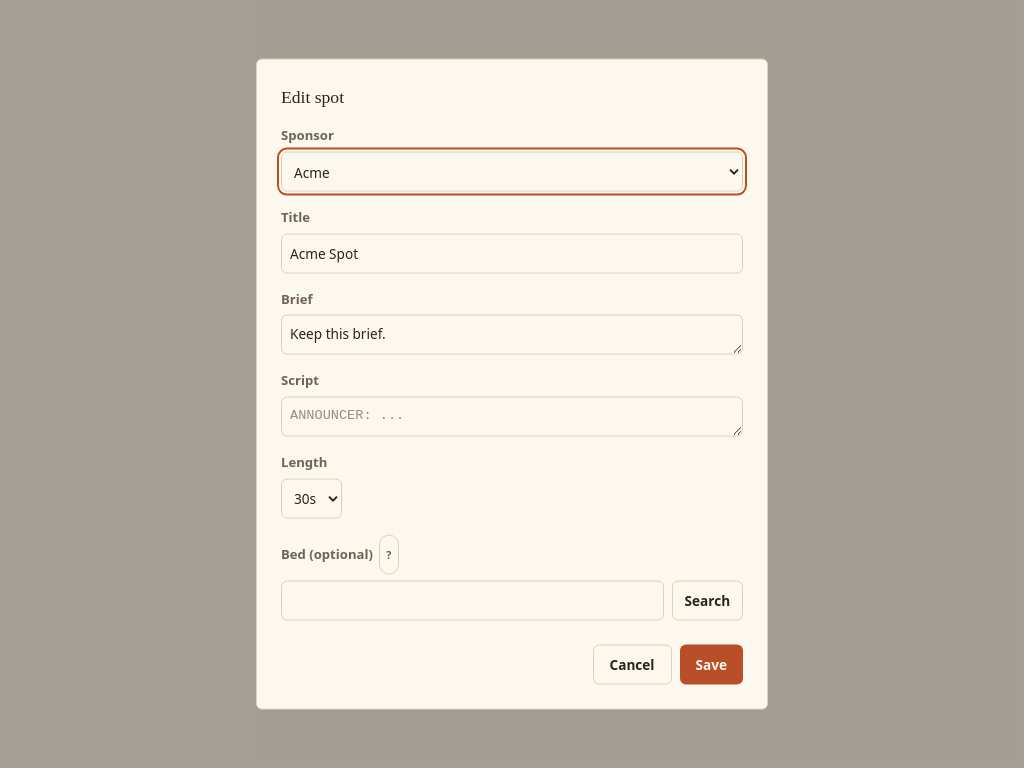
Scenario: Feature: The Ads page › Scenario: honest clears on edit (F1 — the sparse-PATCH can't-clear gap) › refuses to submit a previously-set brief emptied to blank, naming the limitation
Clear the text box labelled "Brief" at [512, 335], box [281, 315, 743, 355]
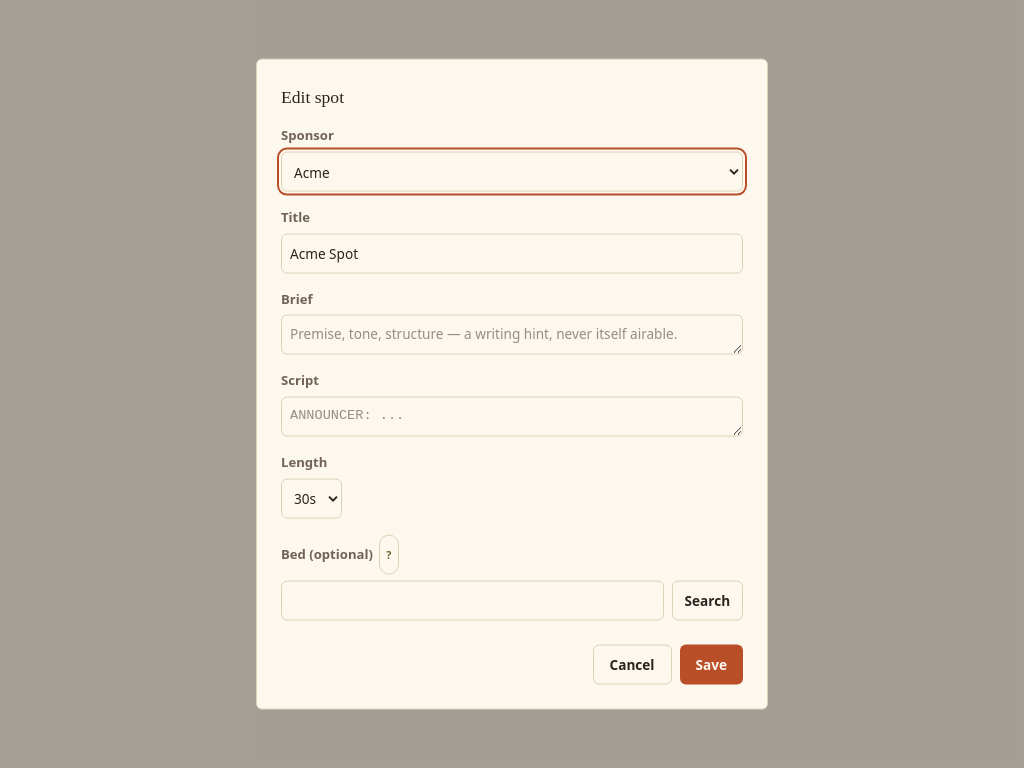
Click the button "Save".
click(711, 664)  # box [680, 644, 743, 684]
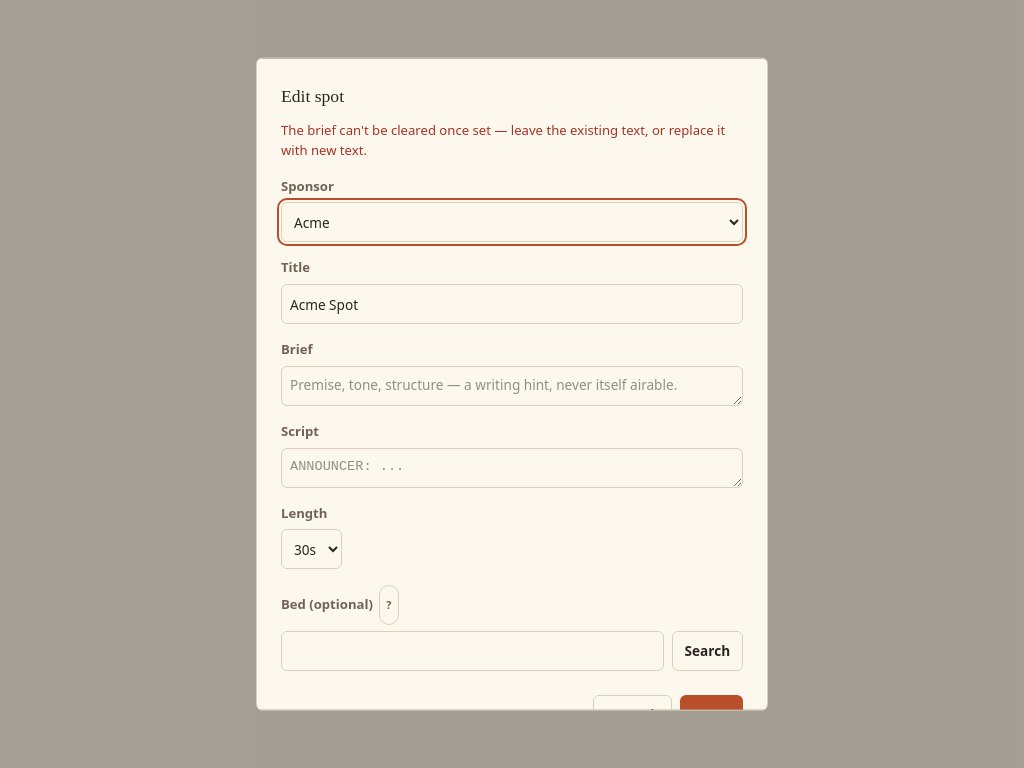
Now the text "can't be cleared once set" is shown, box [281, 121, 725, 159]
